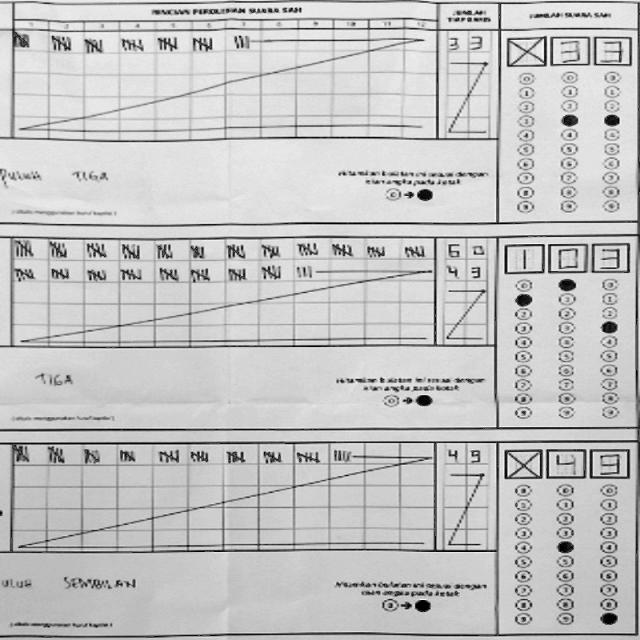Suara: (502, 240, 634, 278), (502, 33, 636, 70), (502, 445, 634, 482)
